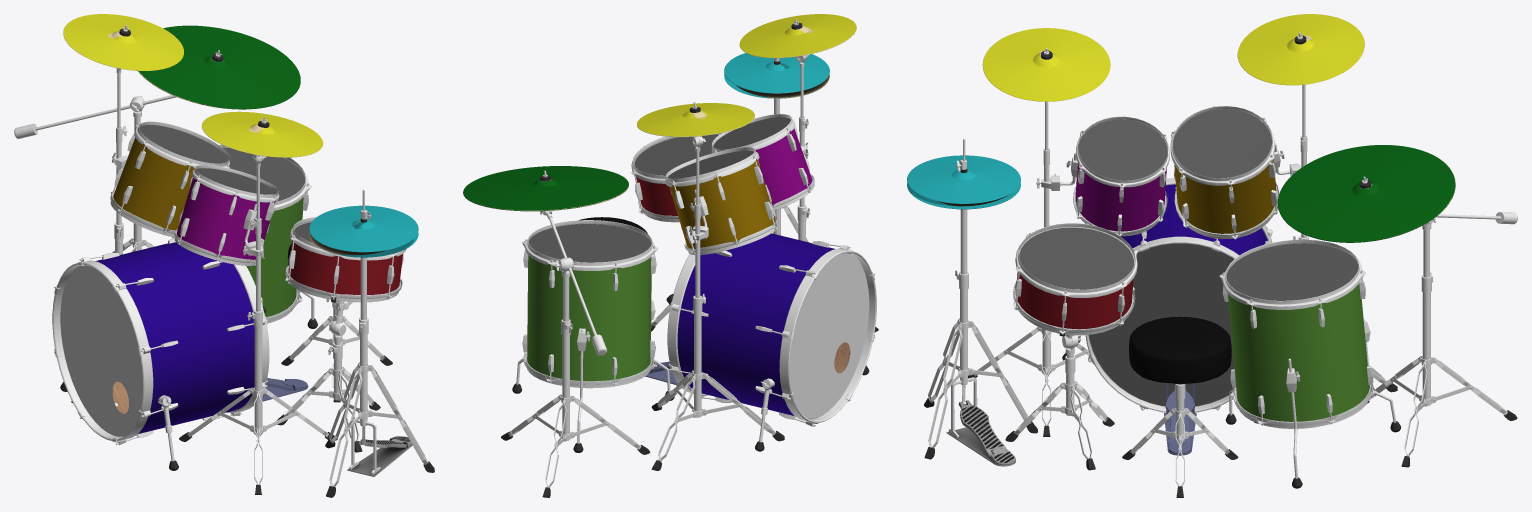
Rendered from bateria.fbx.
3 views of the same model, side by side, from view 1: azimuth 30°, elevation 25°; view 2: azimuth 150°, elevation 25°; view 3: azimuth 270°, elevation 25° (orthographic). The views are drawn at different scales.
Parts seen in each view (by area): view 1: Drumkit01BassDrum01, Drumkit01HiHat01, Drumkit01RideCymbal01, Drumkit01Tom02, Drumkit01Tom01, DrumKit01FloorTom01, Drumkit01Snare01, Drumkit01CrashCymbal02, Drumkit01CrashCymbal01, Drumkit01Stand02a, Drumkit01Stand01a, Drumkit01Stool01 (+3 smaller); view 2: Drumkit01BassDrum01, DrumKit01FloorTom01, Drumkit01Tom02, Drumkit01RideCymbal01, Drumkit01Tom01, Drumkit01HiHat01, Drumkit01CrashCymbal01, Drumkit01Snare01, Drumkit01CrashCymbal02, Drumkit01Stand02a1, Drumkit01Stand03a, Drumkit01Stand02b1 (+2 smaller); view 3: DrumKit01FloorTom01, Drumkit01BassDrum01, Drumkit01RideCymbal01, Drumkit01Tom02, Drumkit01Snare01, Drumkit01HiHat01, Drumkit01Tom01, Drumkit01Stool01, Drumkit01CrashCymbal01, Drumkit01CrashCymbal02, Drumkit01Stand03a, Drumkit01Stand01a (+2 smaller).
Part boxes in pixels (x1,y1,x2,y2): Drumkit01BassDrum01: (52, 237, 308, 470); Drumkit01HiHat01: (309, 189, 434, 497); Drumkit01RideCymbal01: (138, 25, 300, 109); Drumkit01Tom02: (110, 121, 229, 237); Drumkit01Tom01: (174, 165, 279, 265); DrumKit01FloorTom01: (172, 144, 317, 328); Drumkit01Snare01: (285, 217, 406, 335); Drumkit01CrashCymbal02: (63, 14, 183, 70); Drumkit01CrashCymbal01: (201, 111, 323, 158); Drumkit01Stand02a: (179, 309, 337, 494); Drumkit01Stand01a: (277, 342, 380, 452); Drumkit01Stool01: (281, 244, 392, 402); Drumkit01BassDrum01: (645, 233, 876, 451); DrumKit01FloorTom01: (512, 220, 674, 452); Drumkit01Tom02: (665, 147, 778, 255); Drumkit01RideCymbal01: (463, 166, 628, 213); Drumkit01Tom01: (711, 114, 814, 210); Drumkit01HiHat01: (724, 53, 829, 242); Drumkit01CrashCymbal01: (739, 14, 856, 62); Drumkit01Snare01: (631, 133, 721, 222); Drumkit01CrashCymbal02: (637, 102, 754, 146); Drumkit01Stand02a1: (651, 294, 784, 470); Drumkit01Stand03a: (501, 319, 650, 497); Drumkit01Stand02b1: (689, 203, 708, 298); DrumKit01FloorTom01: (1219, 239, 1401, 488); Drumkit01BassDrum01: (1062, 177, 1272, 455); Drumkit01RideCymbal01: (1277, 145, 1455, 242); Drumkit01Tom02: (1170, 105, 1291, 239); Drumkit01Snare01: (1013, 223, 1137, 348); Drumkit01HiHat01: (907, 138, 1037, 466); Drumkit01Tom01: (1060, 115, 1169, 236); Drumkit01Stool01: (1122, 316, 1238, 497); Drumkit01CrashCymbal01: (982, 28, 1110, 101); Drumkit01CrashCymbal02: (1237, 14, 1364, 85); Drumkit01Stand03a: (1367, 272, 1517, 467); Drumkit01Stand01a: (1005, 356, 1114, 470).
Size of the model in its own units: 207 by 234 by 358.
